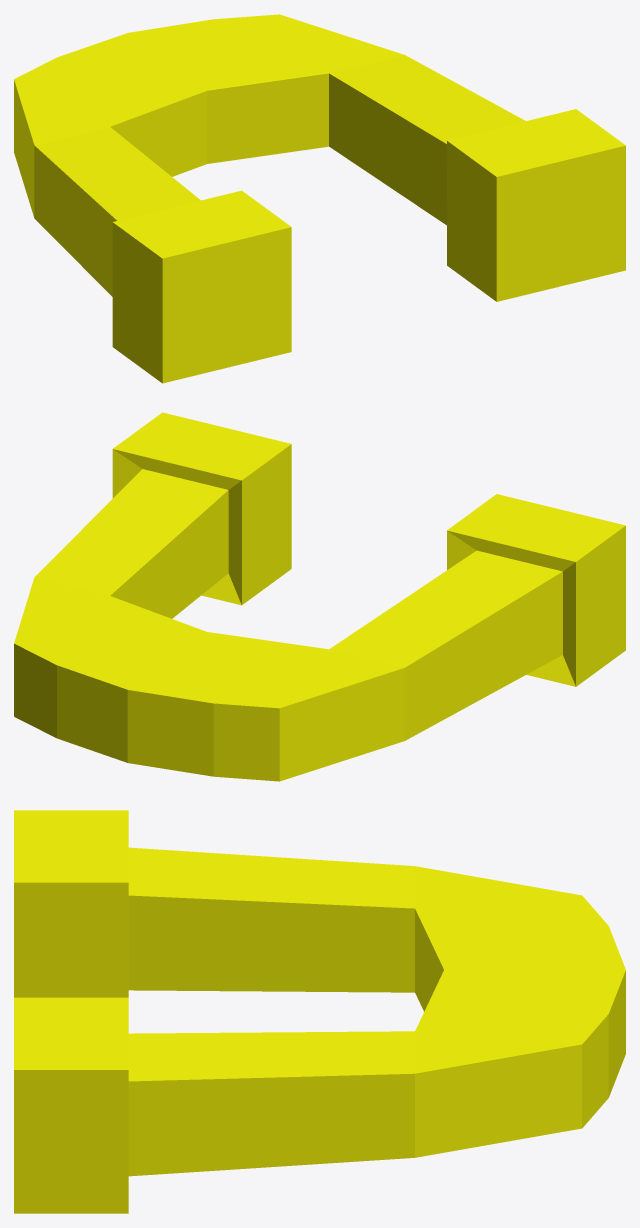
Rendered from mini-magnet.fbx.
The picture shows the model from 3 angles, top to bottom: view 1: azimuth 30°, elevation 25°; view 2: azimuth 150°, elevation 25°; view 3: azimuth 270°, elevation 25°; orthographic projection. The views are drawn at different scales.
Parts seen in each view (by area): view 1: Cube; view 2: Cube; view 3: Cube.
Part boxes in pixels (x1=…): Cube: x1=14, y1=14, x2=625, y2=383; Cube: x1=14, y1=412, x2=625, y2=781; Cube: x1=14, y1=810, x2=625, y2=1213.
Size of the model in its own units: 212 by 54.73 by 212.
